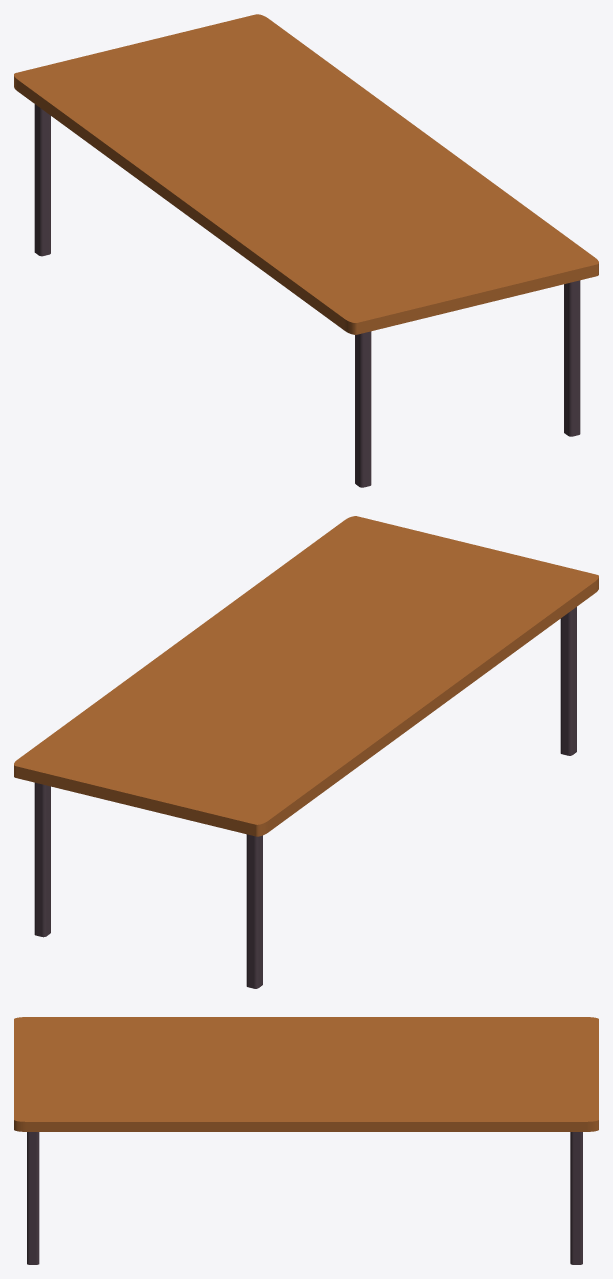
File: Table.fbx
3 renders of one model, top to bottom at view 1: azimuth 30°, elevation 25°; view 2: azimuth 150°, elevation 25°; view 3: azimuth 270°, elevation 25°, orthographic. The views are drawn at different scales.
Parts seen in each view (by area): view 1: Cube; view 2: Cube; view 3: Cube.
Part boxes in pixels (<box>): Cube: <box>14,14,598,487</box>; Cube: <box>14,516,598,988</box>; Cube: <box>14,1017,598,1264</box>.
Size of the model in its own units: 324 by 214 by 763.
